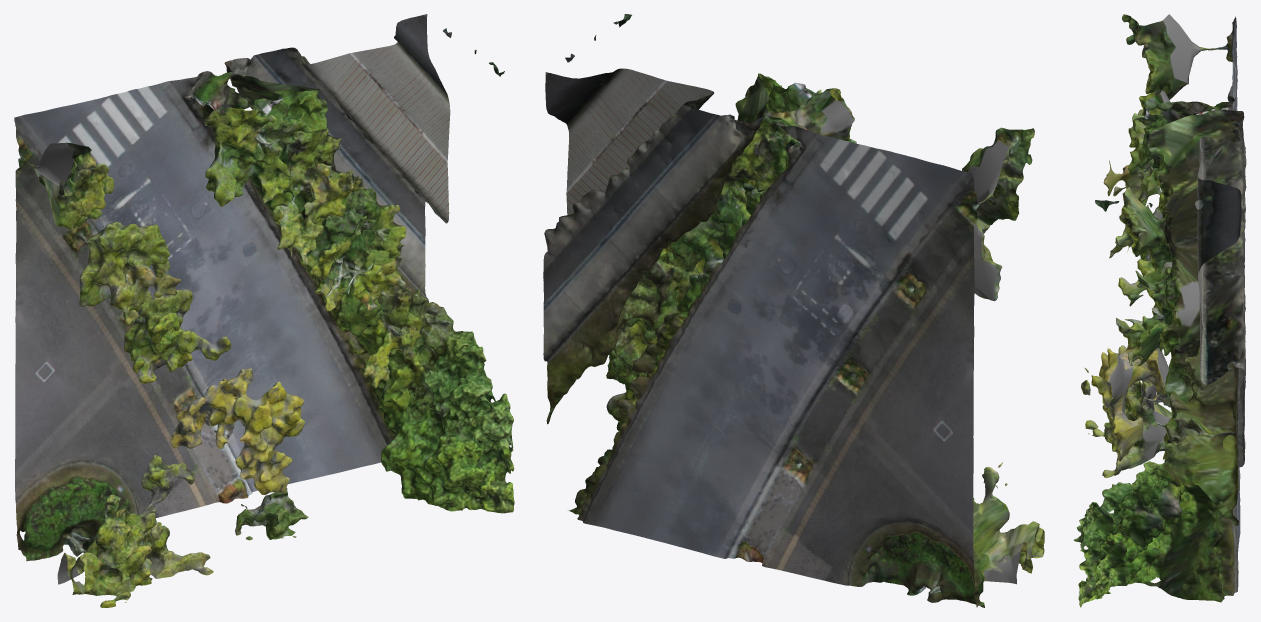
The model's file is Tile_+015_+025.fbx.
3 renders of one model, left to right at view 1: azimuth 30°, elevation 25°; view 2: azimuth 150°, elevation 25°; view 3: azimuth 270°, elevation 25°, orthographic. The views are drawn at different scales.
Visible parts, largest first — view 1: DefaultName; view 2: DefaultName; view 3: DefaultName.
Part boxes in pixels (<box>): DefaultName: <box>14,14,514,607</box>; DefaultName: <box>543,14,1044,607</box>; DefaultName: <box>1073,14,1246,607</box>.
Size of the model in its own units: 22.54 by 22.54 by 8.73.
